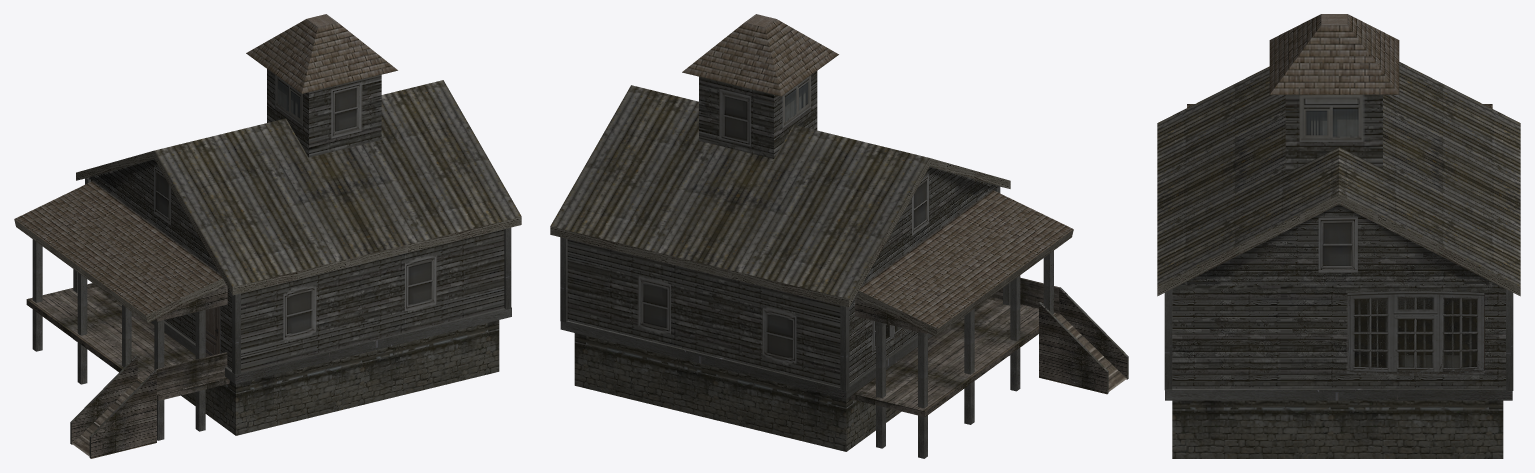
3 renders of one model, left to right at view 1: azimuth 30°, elevation 25°; view 2: azimuth 150°, elevation 25°; view 3: azimuth 270°, elevation 25°, orthographic. The views are drawn at different scales.
Visible parts, largest first — view 1: house_result__lp_pCube5.009; view 2: house_result__lp_pCube5.009; view 3: house_result__lp_pCube5.009.
Boxes of the visible parts, x1,y1,x2,y2 form: house_result__lp_pCube5.009: [14, 14, 521, 458]; house_result__lp_pCube5.009: [550, 14, 1128, 458]; house_result__lp_pCube5.009: [1157, 14, 1520, 458].
Bounding box in the file's own units: 11.67 × 8.72 × 7.59.
1 material, 1 textured.
